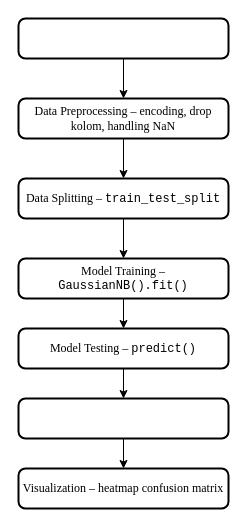
This 246x526 diagram has some shape labels left out. The shapes that lost their labels are listed below. From the top down, each one's box as (x1, y1, x2, y2) in pixels, then its label:
(17, 17, 229, 59): Dataset Acquisition – read_csv untuk memuat data
(17, 397, 229, 439): Model Evaluation – akurasi, f1-score, confusion matrix
